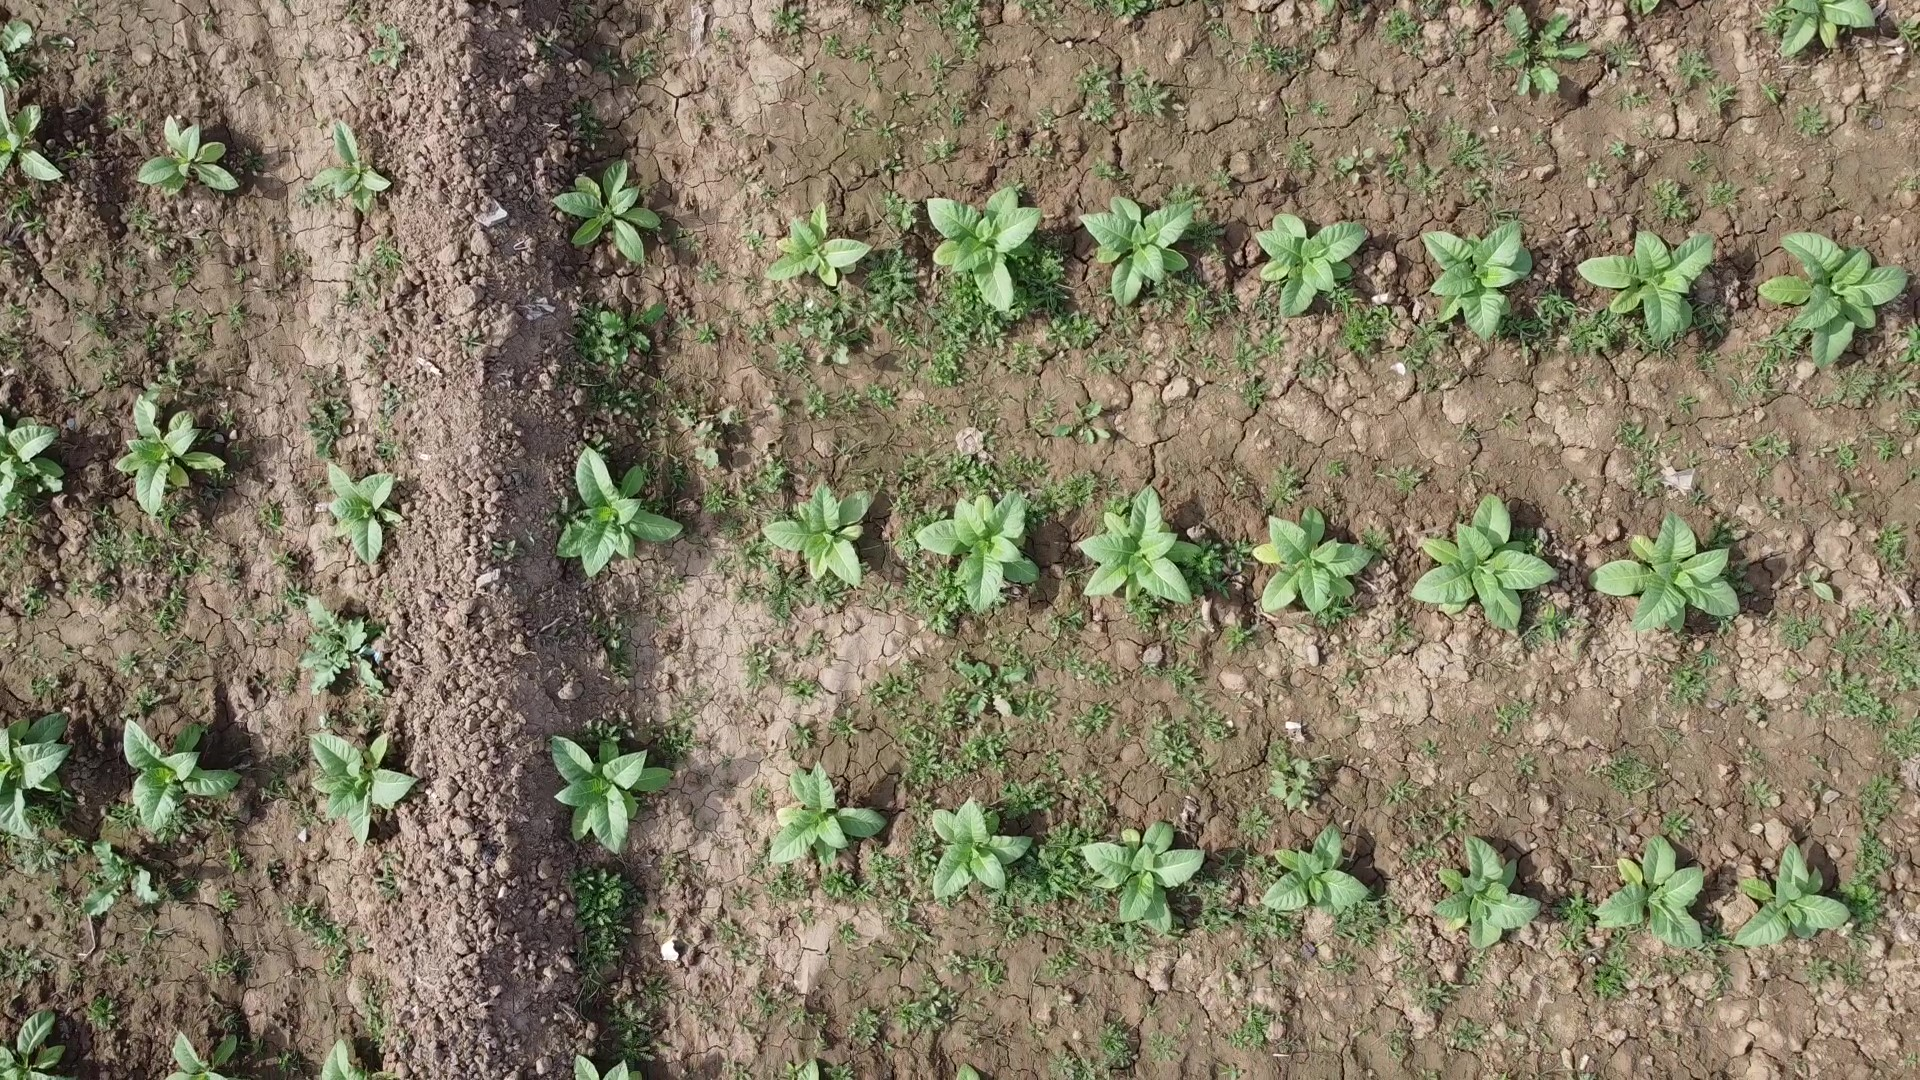weed: (1759, 231, 1907, 369), (1411, 494, 1559, 630), (1588, 512, 1740, 633), (555, 446, 684, 578), (1578, 231, 1716, 345), (915, 489, 1039, 612), (551, 735, 673, 855), (1078, 484, 1202, 601), (927, 186, 1042, 312), (1080, 822, 1205, 932), (115, 394, 225, 516), (124, 719, 242, 832), (1253, 506, 1374, 616), (1422, 223, 1532, 341), (1080, 197, 1193, 309), (768, 760, 887, 866), (310, 733, 419, 847), (1432, 835, 1541, 949), (1593, 835, 1703, 947), (1732, 844, 1850, 945), (1255, 214, 1368, 316), (761, 482, 870, 587), (553, 159, 661, 263), (933, 796, 1032, 898), (1261, 824, 1369, 911), (0, 713, 73, 840), (764, 202, 873, 286), (137, 115, 239, 194), (328, 463, 403, 567), (312, 121, 391, 212), (0, 417, 64, 516), (1782, 0, 1874, 56), (2, 105, 65, 180), (0, 1012, 66, 1080), (166, 1030, 236, 1080), (321, 1039, 400, 1080), (574, 1054, 642, 1080), (1794, 568, 1834, 600), (780, 1057, 819, 1080), (956, 1063, 979, 1080), (1639, 0, 1660, 14)
